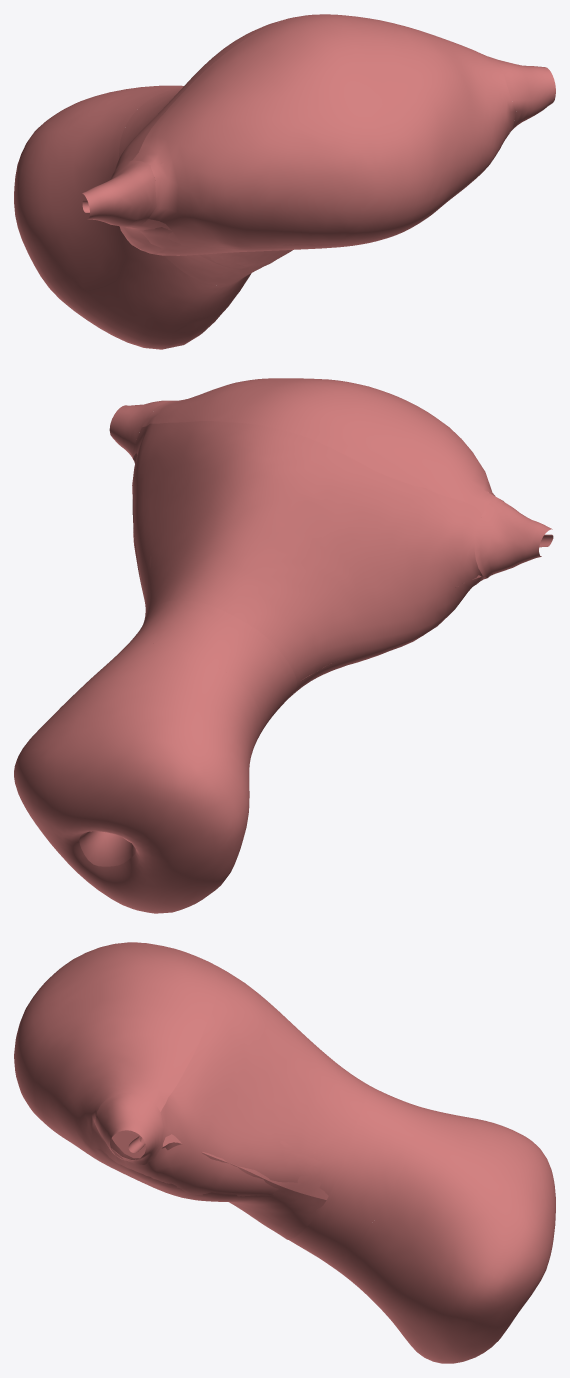
The model's file is uterus.glb.
The picture shows the model from 3 angles, top to bottom: view 1: azimuth 30°, elevation 25°; view 2: azimuth 150°, elevation 25°; view 3: azimuth 270°, elevation 25°; orthographic projection. The views are drawn at different scales.
Parts seen in each view (by area): view 1: VH_F_fundus_of_uterus, VH_F_cervix, VH_F_cornua, VH_F_posterior_wall_of_uterus, VH_F_lower_uterine_segment, VH_F_body_of_uterus; view 2: VH_F_body_of_uterus, VH_F_cervix, VH_F_fundus_of_uterus, VH_F_lower_uterine_segment, VH_F_cornua, VH_F_external_cervical_os; view 3: VH_F_cervix, VH_F_body_of_uterus, VH_F_fundus_of_uterus, VH_F_lower_uterine_segment, VH_F_posterior_wall_of_uterus, VH_F_cornua, VH_F_anterior_wall_of_uterus.
Part boxes in pixels (left/top/right/bottom): VH_F_fundus_of_uterus: left=132, top=14, right=516, bottom=248; VH_F_cervix: left=14, top=85, right=251, bottom=349; VH_F_cornua: left=82, top=58, right=555, bottom=227; VH_F_posterior_wall_of_uterus: left=140, top=147, right=500, bottom=269; VH_F_lower_uterine_segment: left=119, top=87, right=262, bottom=284; VH_F_body_of_uterus: left=114, top=18, right=511, bottom=268; VH_F_body_of_uterus: left=132, top=421, right=486, bottom=694; VH_F_cervix: left=14, top=642, right=261, bottom=913; VH_F_fundus_of_uterus: left=142, top=378, right=495, bottom=513; VH_F_lower_uterine_segment: left=124, top=600, right=296, bottom=737; VH_F_cornua: left=109, top=400, right=552, bottom=578; VH_F_external_cervical_os: left=79, top=831, right=136, bottom=866; VH_F_cervix: left=332, top=1106, right=555, bottom=1363; VH_F_body_of_uterus: left=112, top=962, right=366, bottom=1213; VH_F_fundus_of_uterus: left=14, top=942, right=217, bottom=1163; VH_F_lower_uterine_segment: left=289, top=1083, right=419, bottom=1266; VH_F_posterior_wall_of_uterus: left=40, top=1119, right=326, bottom=1239; VH_F_cornua: left=95, top=942, right=164, bottom=1164; VH_F_anterior_wall_of_uterus: left=162, top=1134, right=328, bottom=1199.
Bounding box in the file's own units: 0.0525 × 0.047 × 0.0587.
